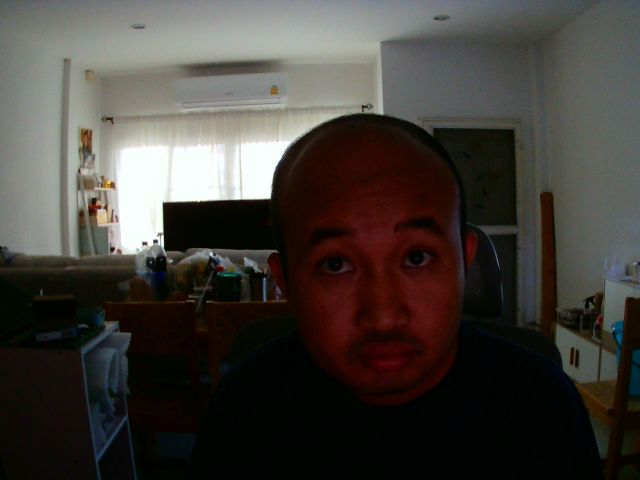face: (275, 109, 463, 398)
